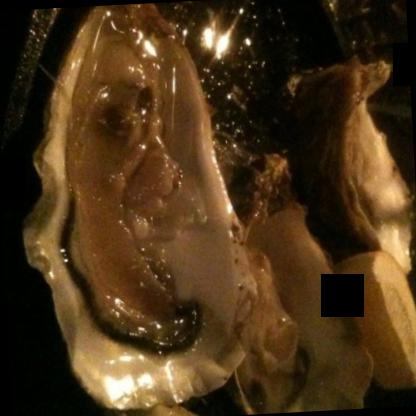oyster: (16, 1, 259, 410)
